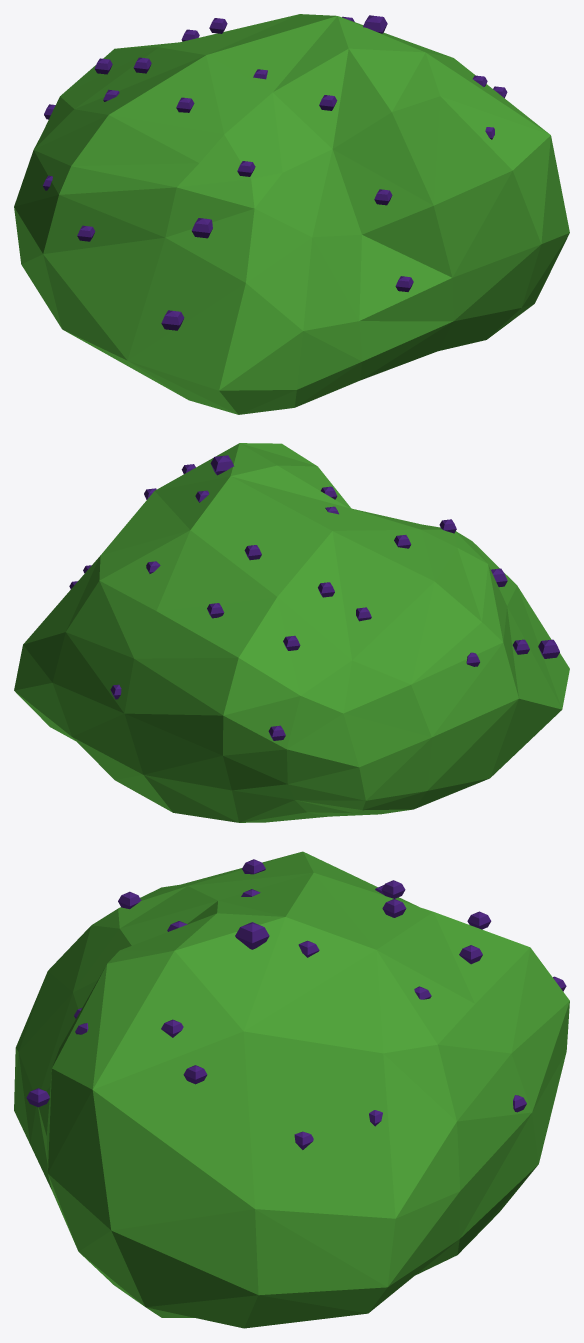
Rendered from BushWithBerries.fbx.
3 renders of one model, top to bottom at view 1: azimuth 30°, elevation 25°; view 2: azimuth 150°, elevation 25°; view 3: azimuth 270°, elevation 25°, orthographic. The views are drawn at different scales.
Parts seen in each view (by area): view 1: BushWithBerries; view 2: BushWithBerries; view 3: BushWithBerries.
Boxes of the visible parts, x1,y1,x2,y2 form: BushWithBerries: (14, 14, 569, 414); BushWithBerries: (14, 443, 569, 822); BushWithBerries: (14, 851, 569, 1328).
Bounding box in the file's own units: 123 × 76.74 × 107.
